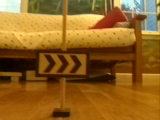right: (35, 51, 90, 76)
